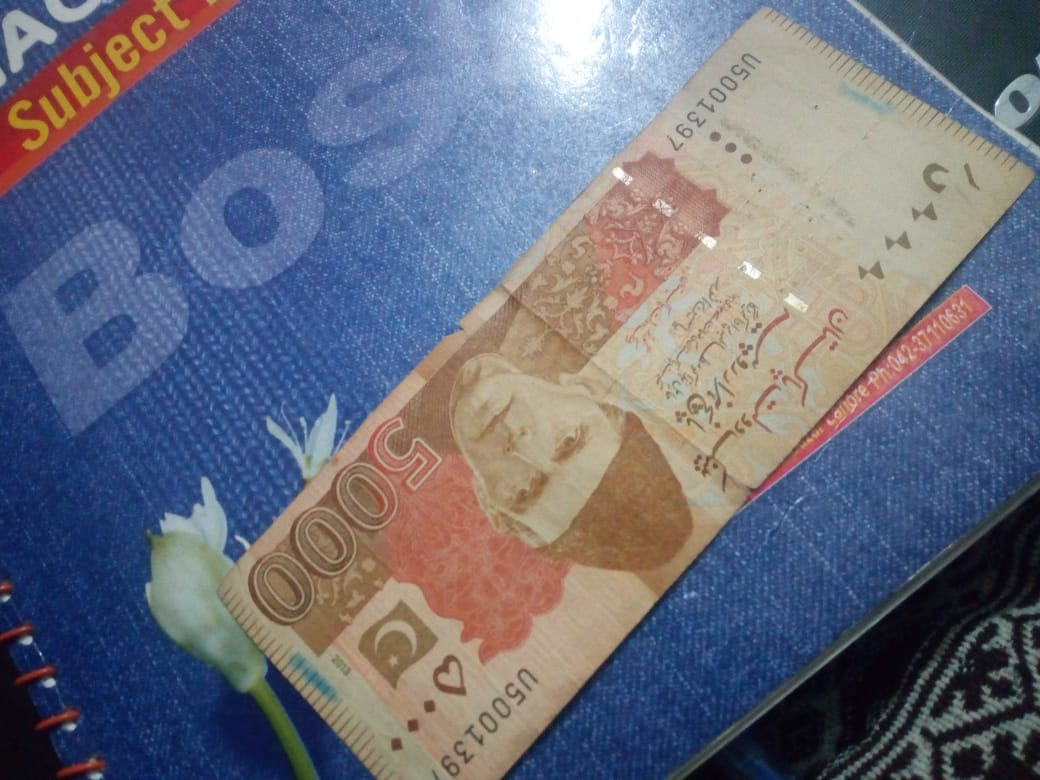5000 rupee: (186, 33, 1000, 735)
